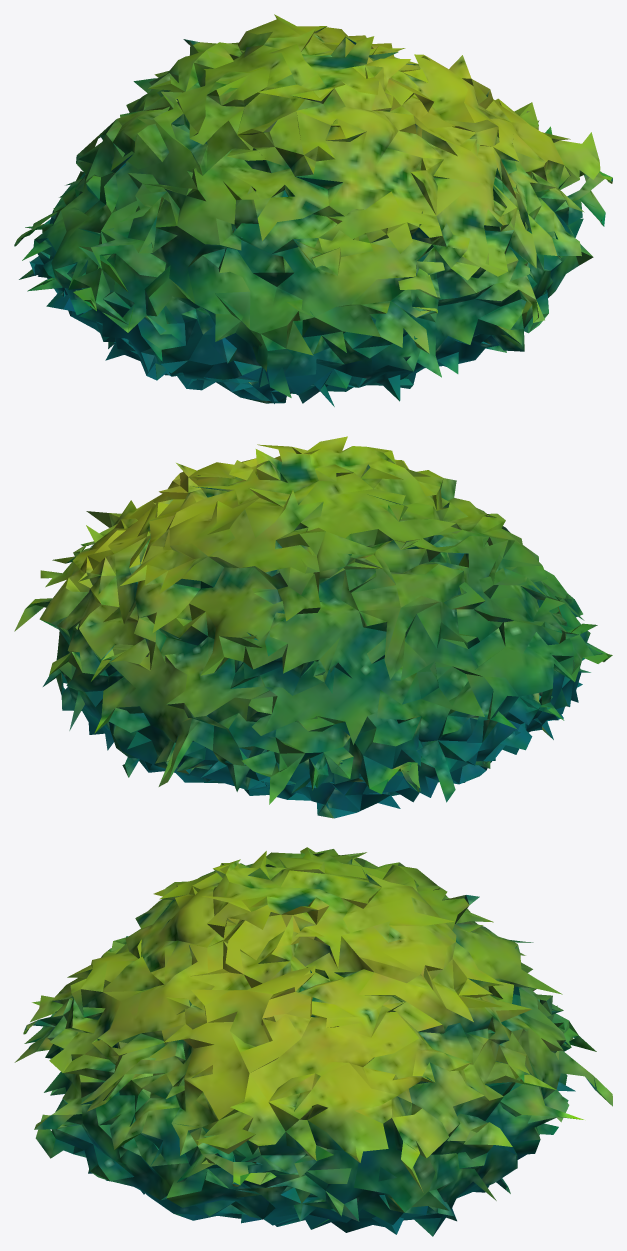
Rendered from tree-bush.glb.
The picture shows the model from 3 angles, top to bottom: view 1: azimuth 30°, elevation 25°; view 2: azimuth 150°, elevation 25°; view 3: azimuth 270°, elevation 25°; orthographic projection. The views are drawn at different scales.
Parts seen in each view (by area): view 1: tree-bush.raw; view 2: tree-bush.raw; view 3: tree-bush.raw.
Boxes of the visible parts, box(x1,y1,x2,y2) form: tree-bush.raw: box(14, 14, 612, 406); tree-bush.raw: box(14, 436, 612, 818); tree-bush.raw: box(14, 847, 612, 1236).
Bounding box in the file's own units: 19.22 × 9.82 × 18.01.
Materials: 1 (1 with a texture image).
